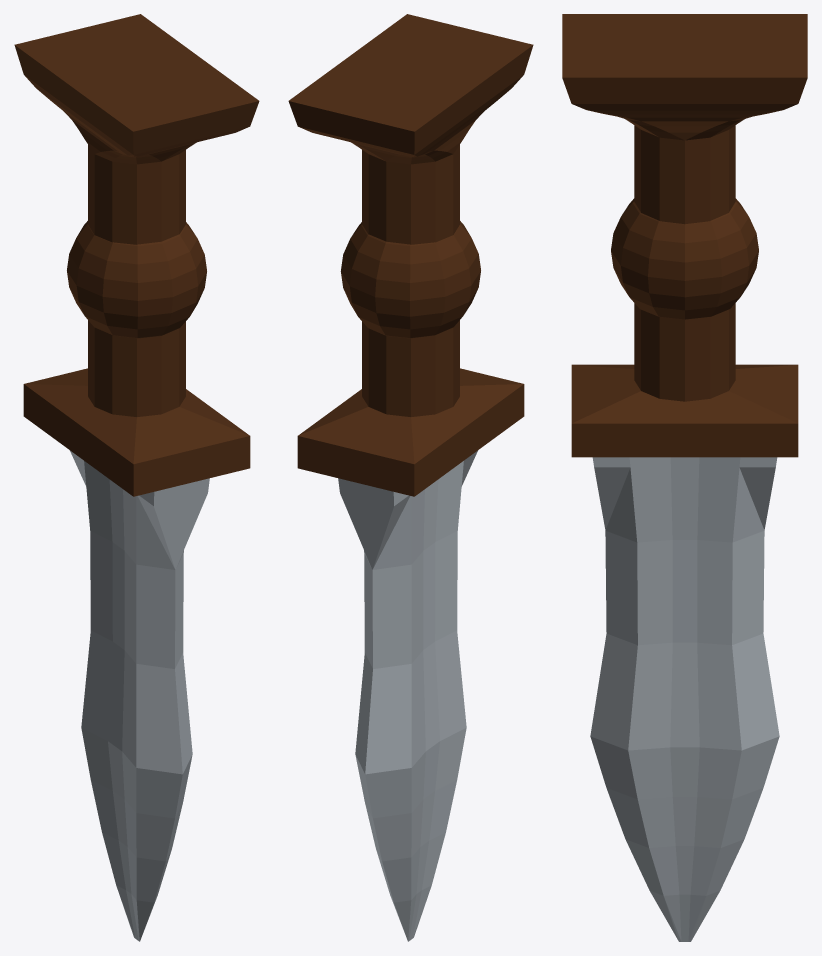
The model's file is Pugio.fbx.
The picture shows the model from 3 angles, left to right: view 1: azimuth 30°, elevation 25°; view 2: azimuth 150°, elevation 25°; view 3: azimuth 270°, elevation 25°; orthographic projection. The views are drawn at different scales.
Visible parts, largest first — view 1: Pugio; view 2: Pugio; view 3: Pugio.
Part boxes in pixels (<box>): Pugio: <box>14,14,259,941</box>; Pugio: <box>288,14,533,941</box>; Pugio: <box>562,14,807,941</box>.
Bounding box in the file's own units: 6.64 × 43.57 × 10.82.
